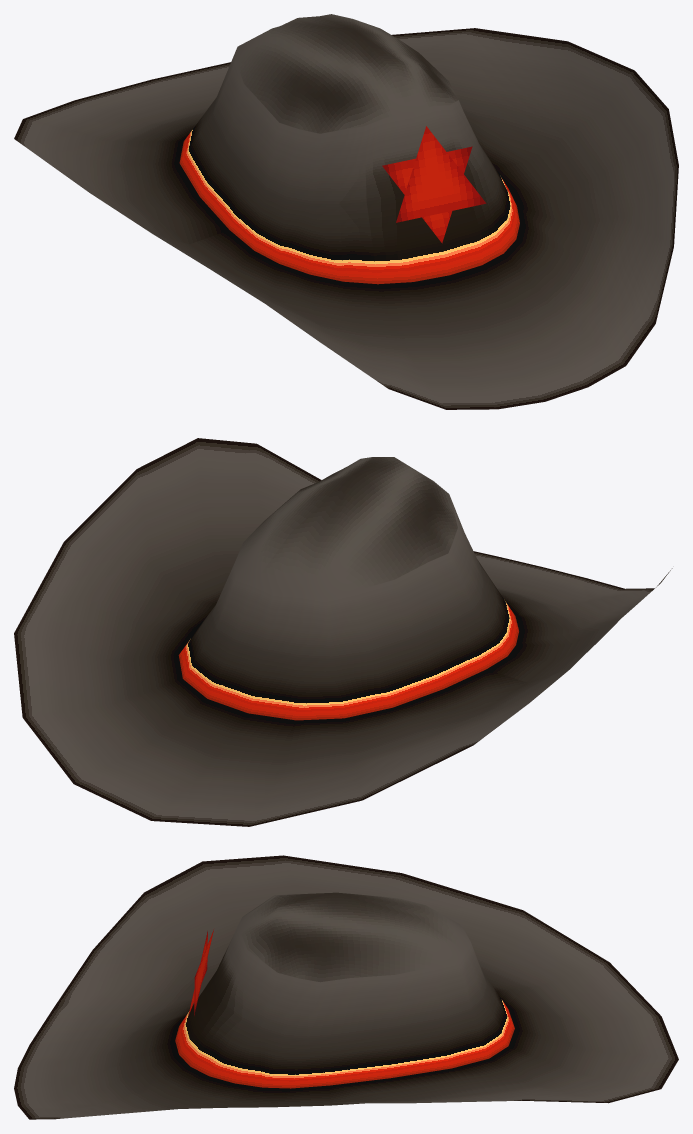
The picture shows the model from 3 angles, top to bottom: view 1: azimuth 30°, elevation 25°; view 2: azimuth 150°, elevation 25°; view 3: azimuth 270°, elevation 25°; orthographic projection. The views are drawn at different scales.
Parts seen in each view (by area): view 1: defect; view 2: defect; view 3: defect.
Part boxes in pixels (left/top/right/bottom): defect: left=14, top=14, right=678, bottom=409; defect: left=14, top=438, right=672, bottom=826; defect: left=14, top=855, right=678, bottom=1119.
Size of the model in its own units: 139 by 61.25 by 188.
Materials: 1 (1 with a texture image).
